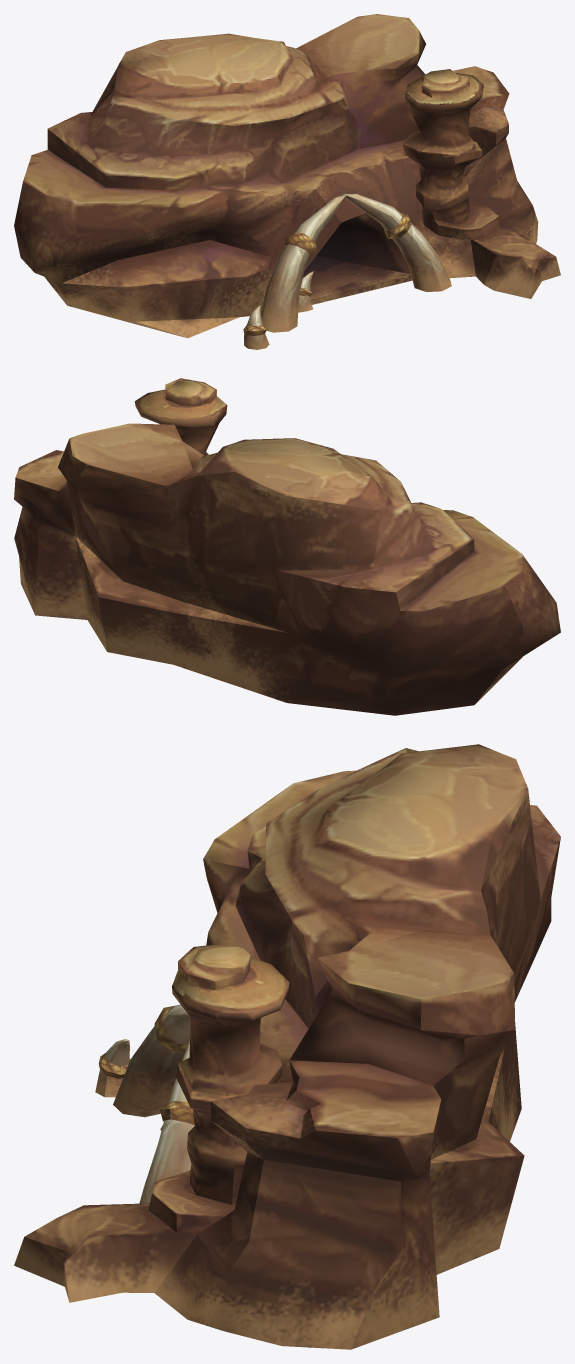
File: shandong05.FBX
3 views of the same model, one above another, from view 1: azimuth 30°, elevation 25°; view 2: azimuth 150°, elevation 25°; view 3: azimuth 270°, elevation 25° (orthographic). The views are drawn at different scales.
Visible parts, largest first — view 1: shandong05; view 2: shandong05; view 3: shandong05.
Boxes of the visible parts, x1,y1,x2,y2 form: shandong05: (14, 14, 560, 349); shandong05: (14, 378, 560, 715); shandong05: (14, 744, 560, 1349).
Bounding box in the file's own units: 650 × 260 × 382.
